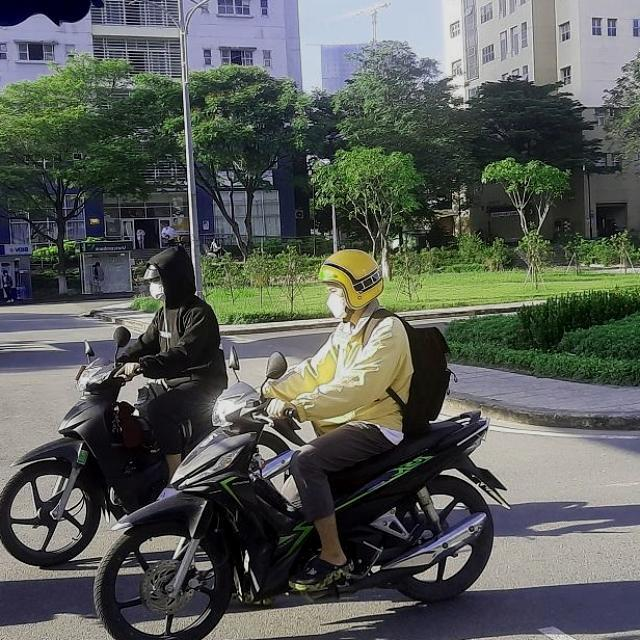Helmet: (310, 248, 384, 321)
